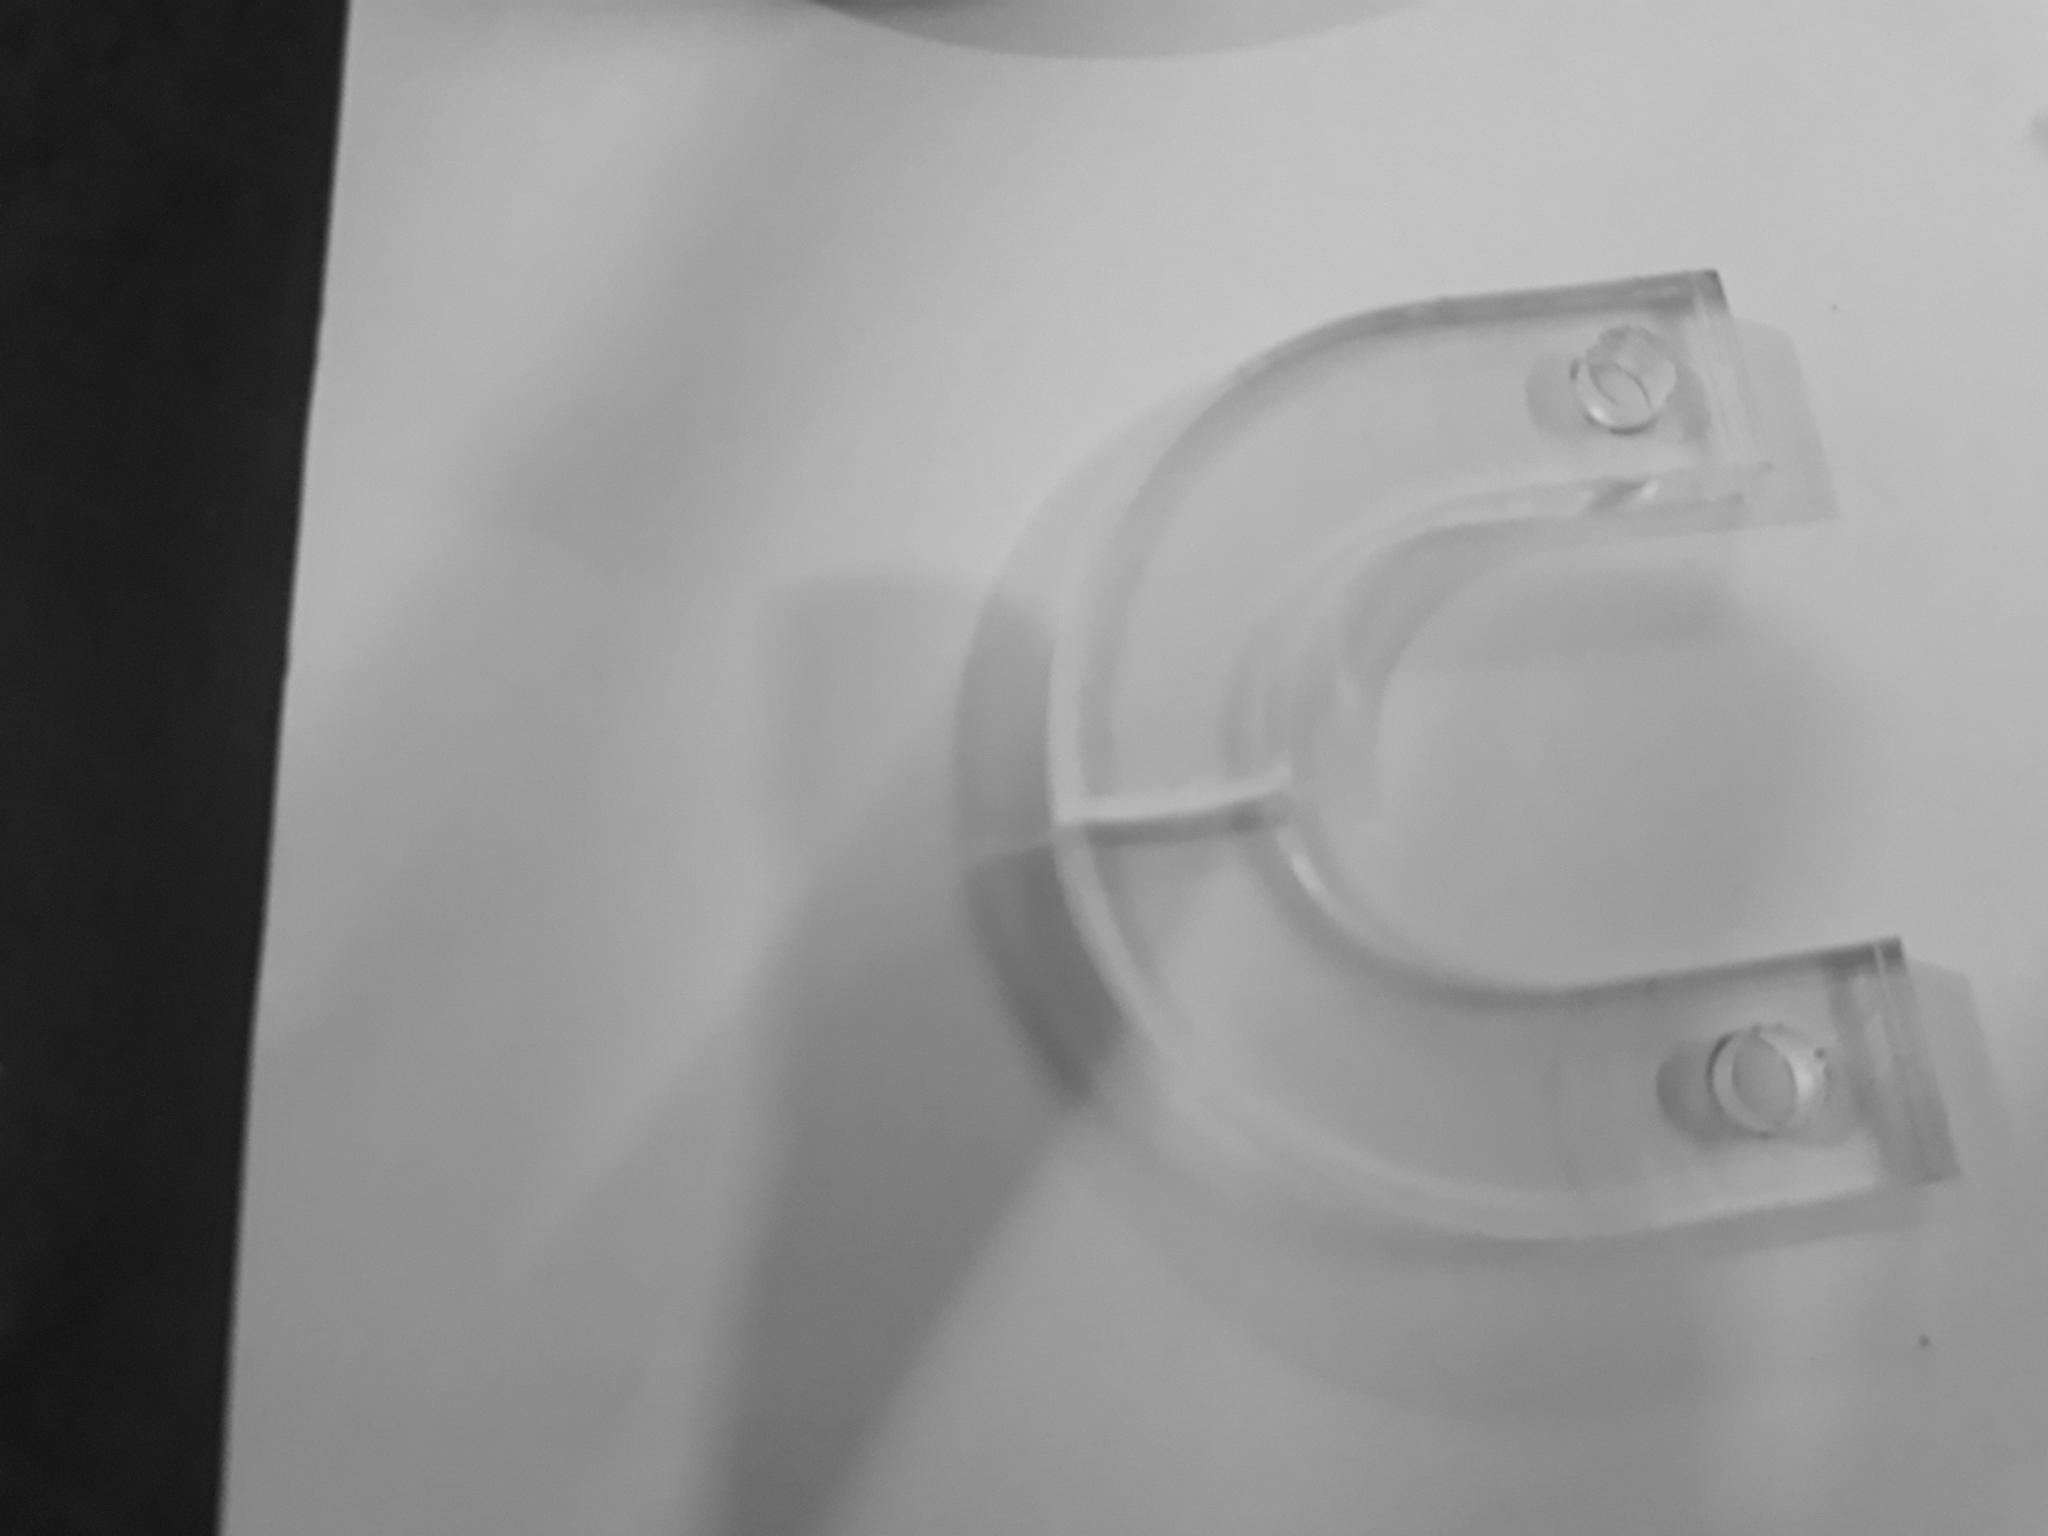Shape_180: (1039, 255, 1951, 1257)
